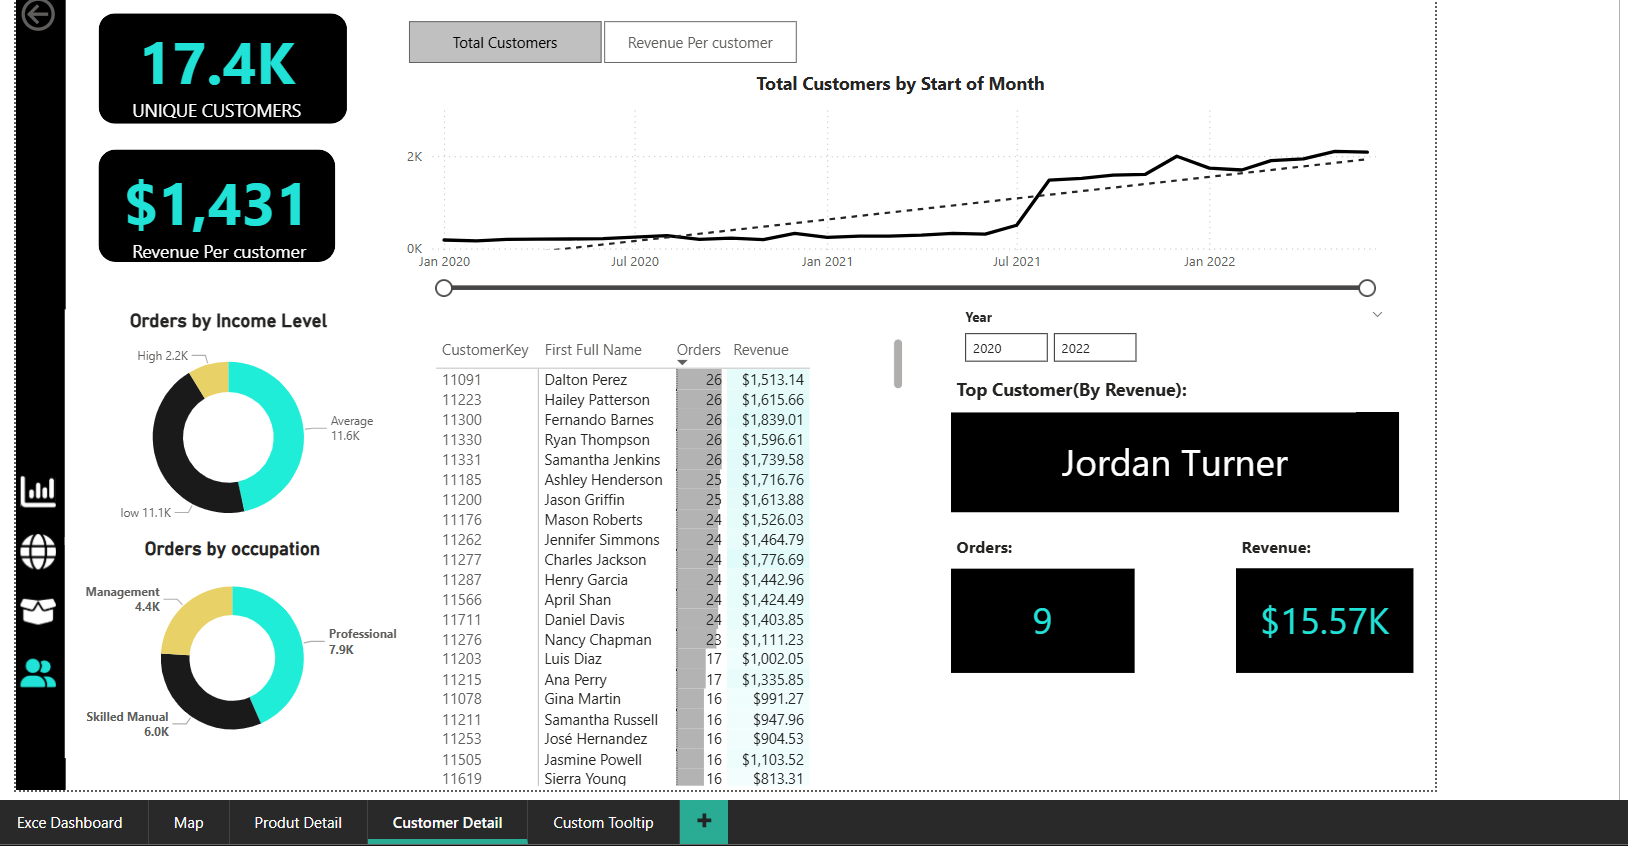

What the dashboard file says about the page in this screenshot:
{"tool":"powerbi","page":{"name":"Customer Detail","canvas":[1280,720],"ordinal":3},"visuals":[{"type":"shape","box":[0,0,45,720],"z":0},{"type":"shape","box":[74.8,19.6,224.3,99.7],"z":1000},{"type":"card","fields":{"Values":["Measure Table.Total Customers"]},"box":[74.8,0,213.6,142.4],"z":2000},{"type":"shape","box":[74.8,142.4,213.6,101.4],"z":3000},{"type":"card","fields":{"Values":["Measure Table.Average Revenue Per customer"]},"box":[57,119.2,247.4,158.4],"z":4000},{"type":"lineChart","fields":{"Y":["Measure Table.Total Customers"],"Category":["Calendar Lookup.Date Hierarchy.Year","Calendar Lookup.Date Hierarchy.Start of Month","Calendar Lookup.Date Hierarchy.Start of Week","Calendar Lookup.Date Hierarchy.Date"]},"box":[347.1,71.2,900.6,206.5],"z":5000},{"type":"donutChart","title":" Orders by Income Level","fields":{"Y":["Measure Table.Total Orders"],"Category":["Customer Lookup.Income Level"]},"box":[44.5,286.5,295.4,211.8],"z":6000},{"type":"donutChart","title":" Orders by occupation","fields":{"Y":["Measure Table.Total Orders"],"Category":["Customer Lookup.Occupation"]},"box":[44.5,491.2,302.6,199.3],"z":7000},{"type":"pivotTable","fields":{"Rows":["Customer Lookup.CustomerKey"],"Values":["Customer Lookup.Full Name","Measure Table.Total Orders","Measure Table.Total Revenue"]},"box":[373.8,307.9,430.7,412.9],"z":8000},{"type":"actionButton","box":[0,430,45,40],"z":9000},{"type":"actionButton","box":[0,484.6,45,40],"z":10000},{"type":"actionButton","box":[0,539.2,45,40],"z":11000},{"type":"actionButton","box":[0,593.8,45,40],"z":12000},{"type":"card","fields":{"Values":["Customer Lookup.Full Name"]},"box":[843.6,379.1,404,90.8],"z":13000},{"type":"card","fields":{"Values":["Measure Table.Total Orders"]},"box":[843.6,519.7,165.5,94.3],"z":14000},{"type":"card","fields":{"Values":["Measure Table.Total Revenue by sumx"]},"box":[1099.9,519.7,160.2,94.3],"z":15000},{"type":"textbox","box":[843.6,341.7,364.9,37.4],"z":16000},{"type":"textbox","box":[843.6,484.1,165.5,35.6],"z":17000},{"type":"textbox","box":[1099.9,484.1,147.7,30.3],"z":18000},{"type":"slicer","fields":{"Values":["Calendar Lookup.Year"]},"box":[843.6,277.6,404,64.1],"z":19000},{"type":"actionButton","box":[0,0,100,40],"z":20000},{"type":"slicer","fields":{"Values":["Customer Metric Selection.Parameter"]},"box":[327.5,19.6,400,51.6],"z":21000}]}

Visuals, with their boxes on the page's 1280x720 design canvas (x1, y1, x2, y2). These are canvas units, not pixel positions in the 1628x846 screenshot, which may show the page scaled, cropped or inside an application window:
shape: (0, 0, 45, 720)
shape: (75, 20, 299, 119)
card - Measure Table.Total Customers: (75, 0, 288, 142)
shape: (75, 142, 288, 244)
card - Measure Table.Average Revenue Per customer: (57, 119, 304, 278)
lineChart - Measure Table.Total Customers x Calendar Lookup.Date Hierarchy.Year: (347, 71, 1248, 278)
" Orders by Income Level" donutChart: (44, 286, 340, 498)
" Orders by occupation" donutChart: (44, 491, 347, 690)
pivotTable - Customer Lookup.CustomerKey x Customer Lookup.Full Name: (374, 308, 804, 721)
actionButton: (0, 430, 45, 470)
actionButton: (0, 485, 45, 525)
actionButton: (0, 539, 45, 579)
actionButton: (0, 594, 45, 634)
card - Customer Lookup.Full Name: (844, 379, 1248, 470)
card - Measure Table.Total Orders: (844, 520, 1009, 614)
card - Measure Table.Total Revenue by sumx: (1100, 520, 1260, 614)
textbox: (844, 342, 1208, 379)
textbox: (844, 484, 1009, 520)
textbox: (1100, 484, 1248, 514)
slicer - Calendar Lookup.Year: (844, 278, 1248, 342)
actionButton: (0, 0, 100, 40)
slicer - Customer Metric Selection.Parameter: (328, 20, 728, 71)
